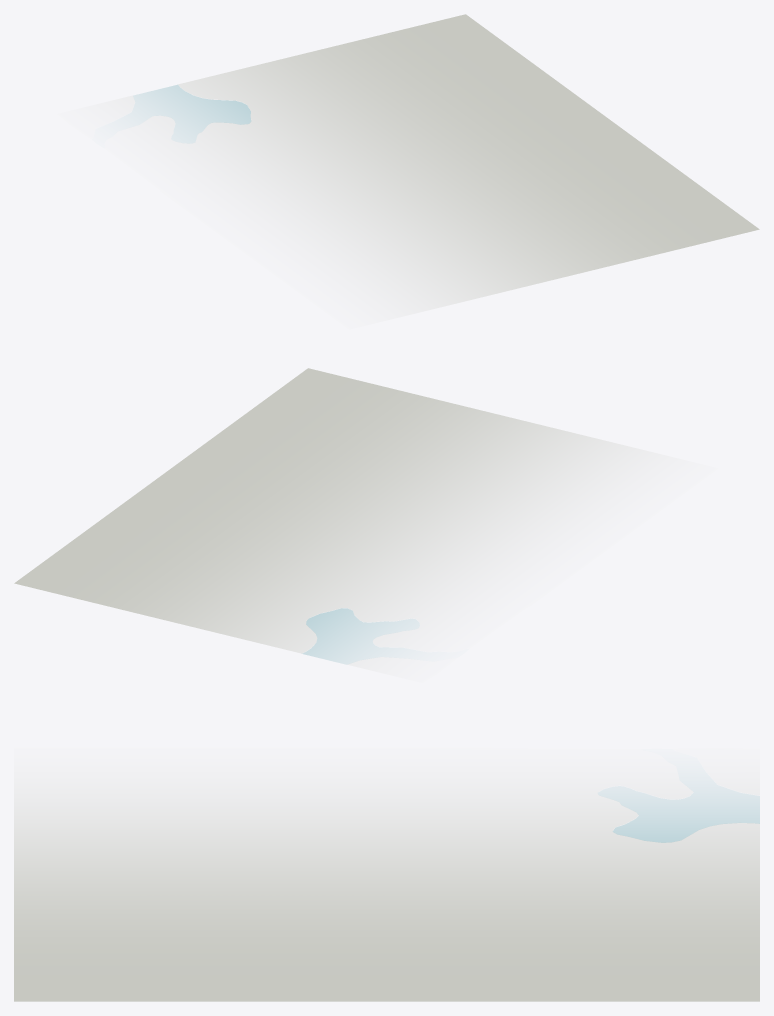
The picture shows the model from 3 angles, top to bottom: view 1: azimuth 30°, elevation 25°; view 2: azimuth 150°, elevation 25°; view 3: azimuth 270°, elevation 25°; orthographic projection. The views are drawn at different scales.
Visible parts, largest first — view 1: city; view 2: city; view 3: city.
Part boxes in pixels (x1,y1,x2,y2): city: [117, 14, 759, 314]; city: [14, 368, 656, 668]; city: [14, 782, 759, 1001].
Bounding box in the file's own units: 443 × 0.18 × 500.
